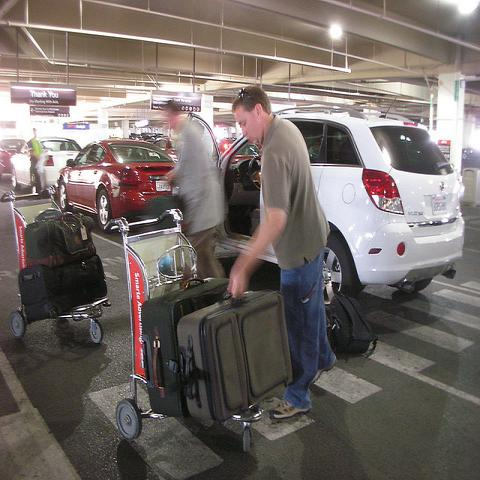car: (218, 105, 466, 305), (54, 140, 182, 231), (10, 138, 82, 192), (153, 137, 185, 154), (216, 138, 238, 155)
